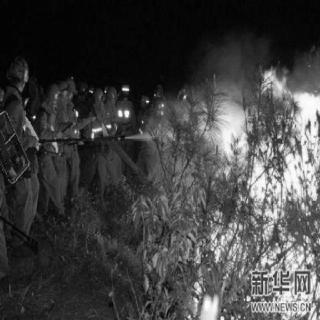other: (76, 77, 166, 175)
